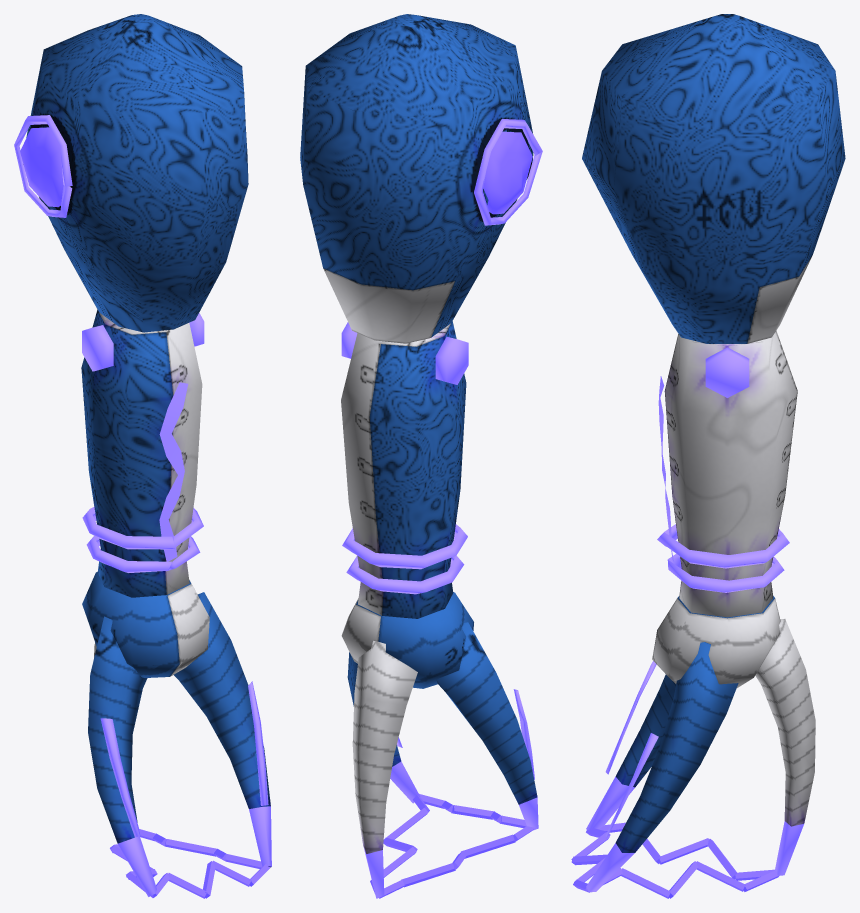
Rendered from LeftElectroGripArmZ.glb.
The picture shows the model from 3 angles, left to right: view 1: azimuth 30°, elevation 25°; view 2: azimuth 150°, elevation 25°; view 3: azimuth 270°, elevation 25°; orthographic projection. The views are drawn at different scales.
Parts seen in each view (by area): view 1: LeftElectroGripArmZ_Upper, LeftElectroGripArmZ_Fore, LeftElectroGripArmZ_Fist; view 2: LeftElectroGripArmZ_Upper, LeftElectroGripArmZ_Fore, LeftElectroGripArmZ_Fist; view 3: LeftElectroGripArmZ_Upper, LeftElectroGripArmZ_Fist, LeftElectroGripArmZ_Fore.
Boxes of the visible parts, bbox=[...] form: LeftElectroGripArmZ_Upper: bbox=[14, 14, 248, 332]; LeftElectroGripArmZ_Fore: bbox=[81, 309, 204, 597]; LeftElectroGripArmZ_Fist: bbox=[82, 572, 271, 898]; LeftElectroGripArmZ_Upper: bbox=[300, 14, 542, 343]; LeftElectroGripArmZ_Fore: bbox=[341, 321, 468, 618]; LeftElectroGripArmZ_Fist: bbox=[341, 592, 538, 898]; LeftElectroGripArmZ_Upper: bbox=[582, 14, 845, 343]; LeftElectroGripArmZ_Fist: bbox=[571, 596, 815, 898]; LeftElectroGripArmZ_Fore: bbox=[657, 330, 797, 617].
Bounding box in the file's own units: 4.47 × 18.88 × 5.46.
Materials: 5 (3 with a texture image).
